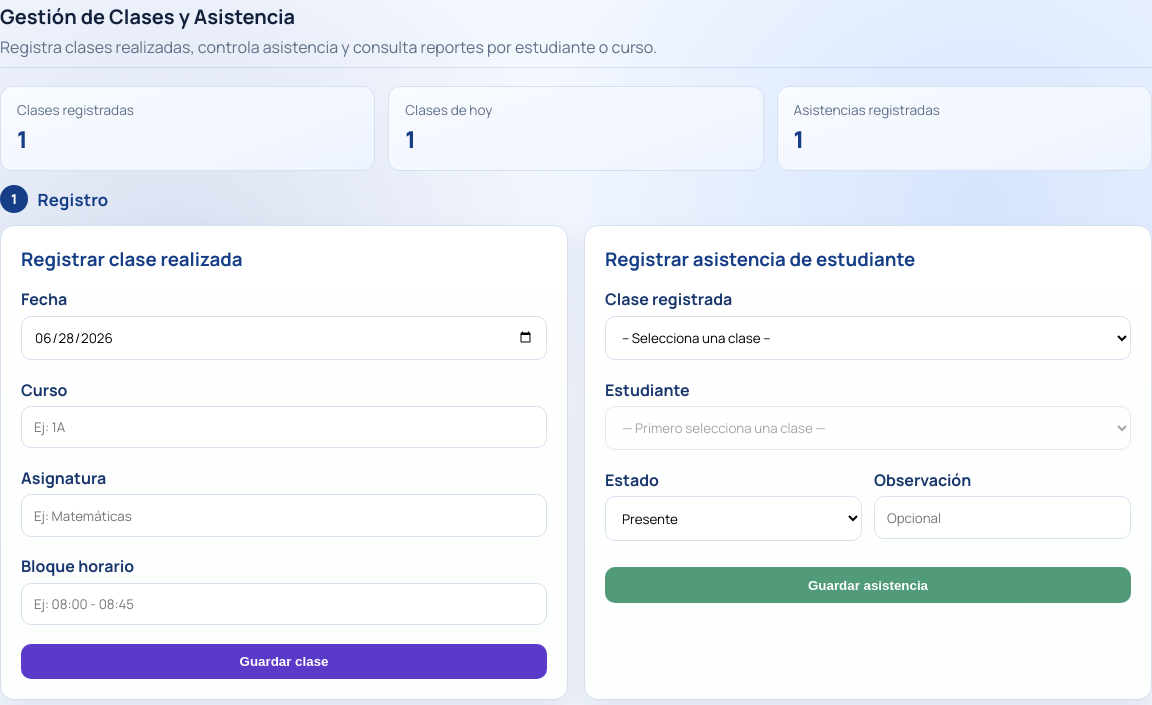
Test: Asistencia — registro de clase › muestra error si falla el servicio de crear clase
# Llenamos el formulario
Type "1A" into the field labelled "Curso" at (284, 427), box [21,406,547,448]
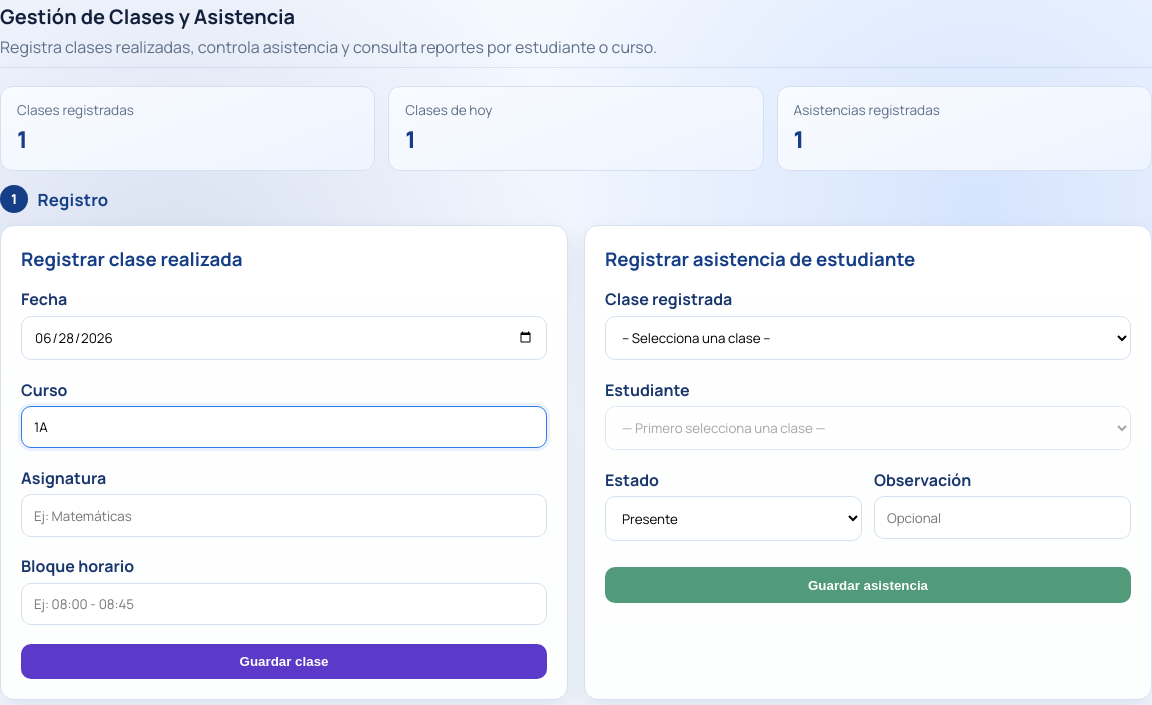
Type "Física" into the field labelled "Asignatura" at (284, 516), box [21,494,547,537]
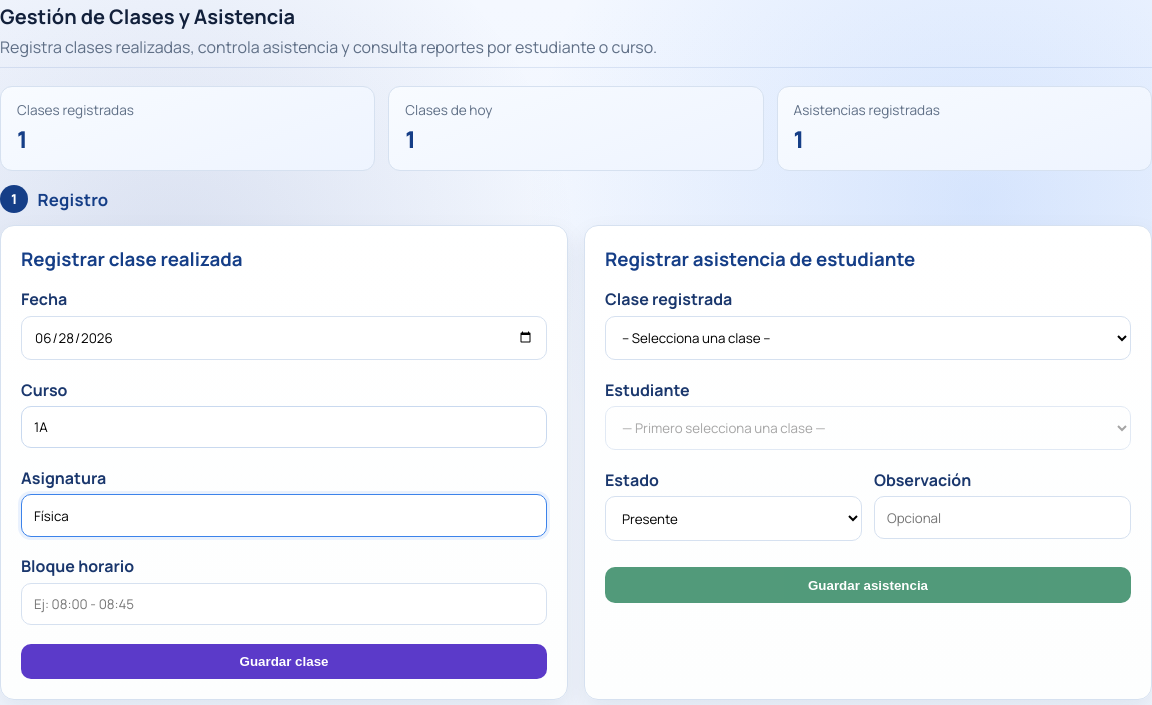
Type "12:00" into the field labelled "Bloque horario" at (284, 604), box [21,583,547,625]
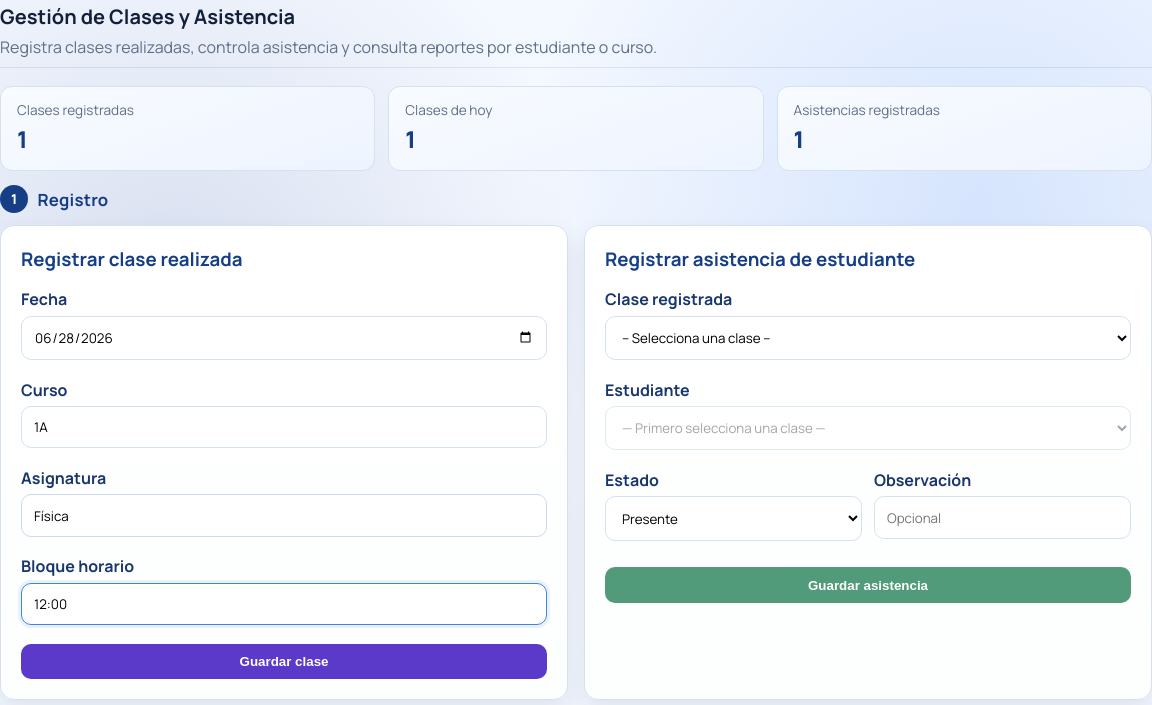
# Hacemos click en guardar
Click the button "Guardar clase" at (284, 662), box [21,644,547,679]
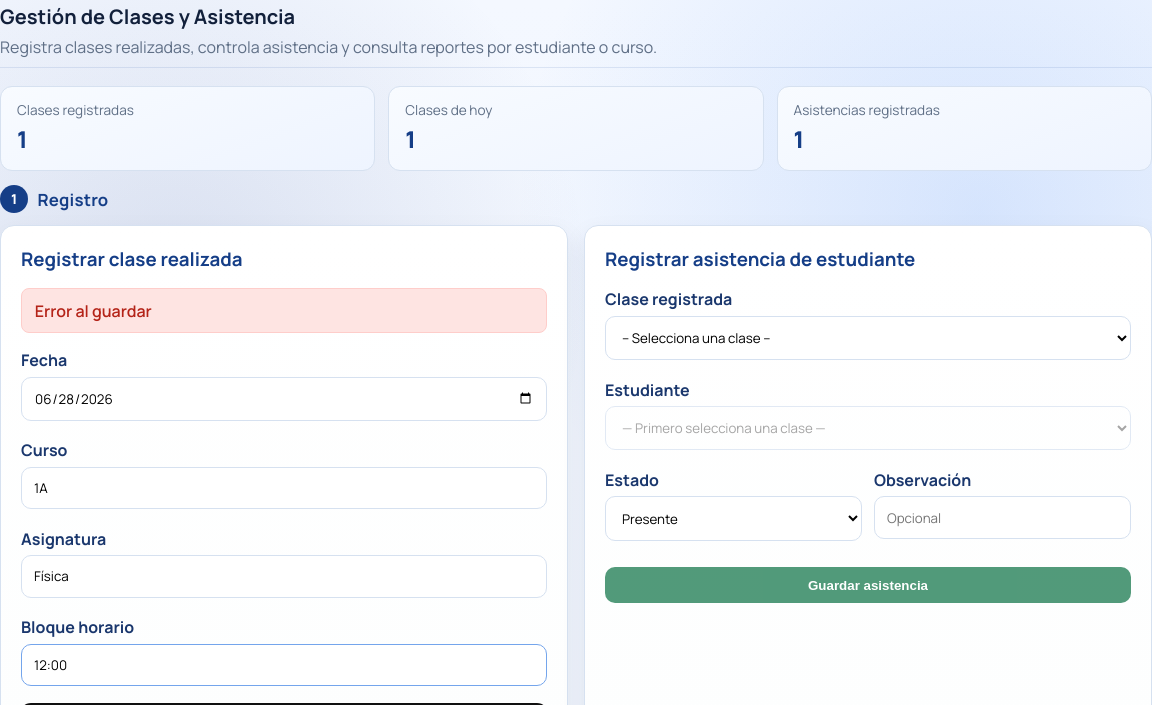
Expected: the text "Error al guardar" is shown, [21,288,547,333]
